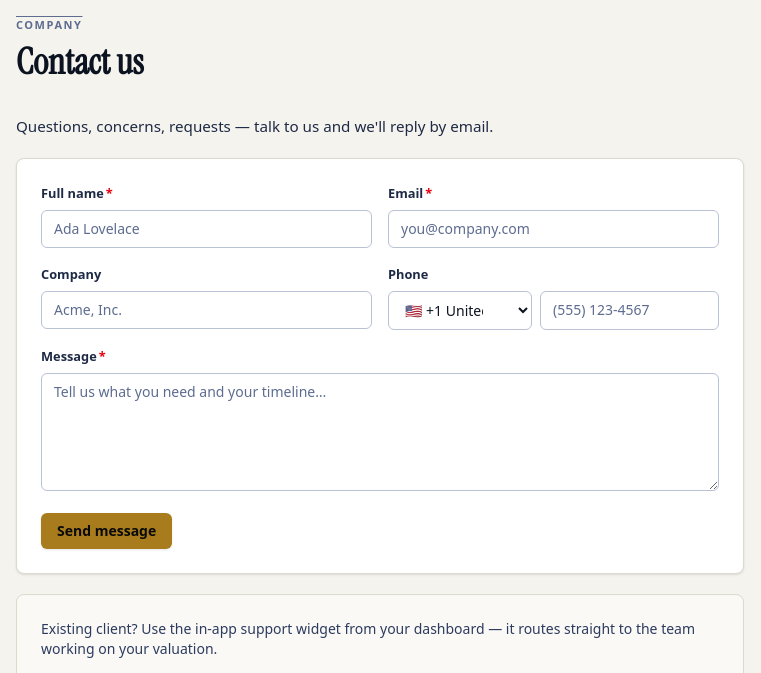
Scenario: contact form (gap #28) › surfaces a server error without clearing the form
In the field labelled "Full name": {"x": 206, "y": 229} [41,210,372,248], type "Ada"
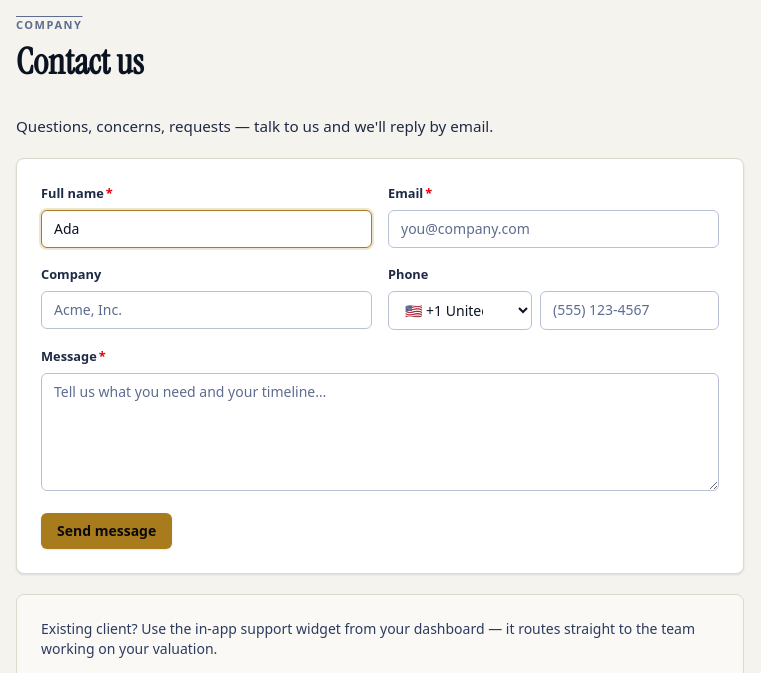
In the field labelled "Email": {"x": 554, "y": 229} [388,210,719,248], type "ada@x.example"
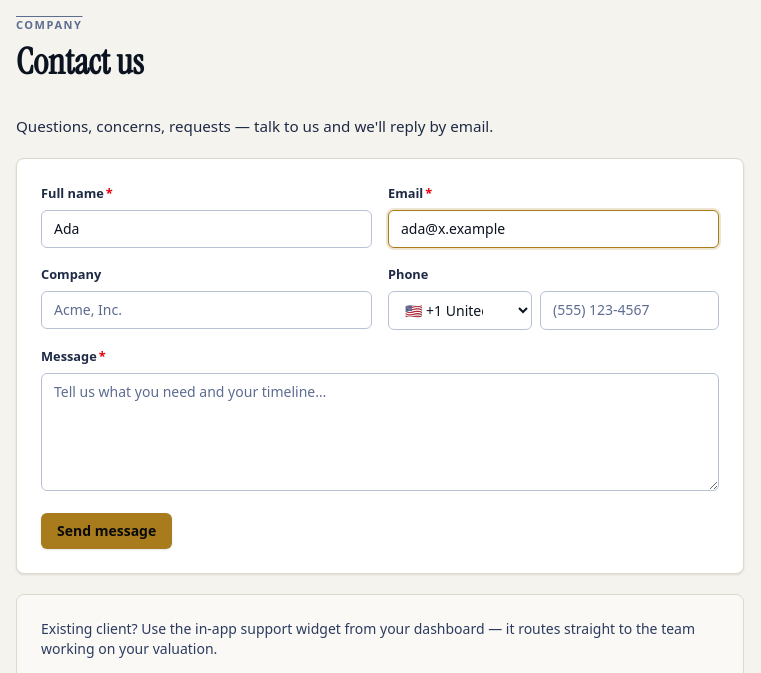
In the text box labelled "Message": {"x": 380, "y": 432} [41,372,719,490], type "Hello"
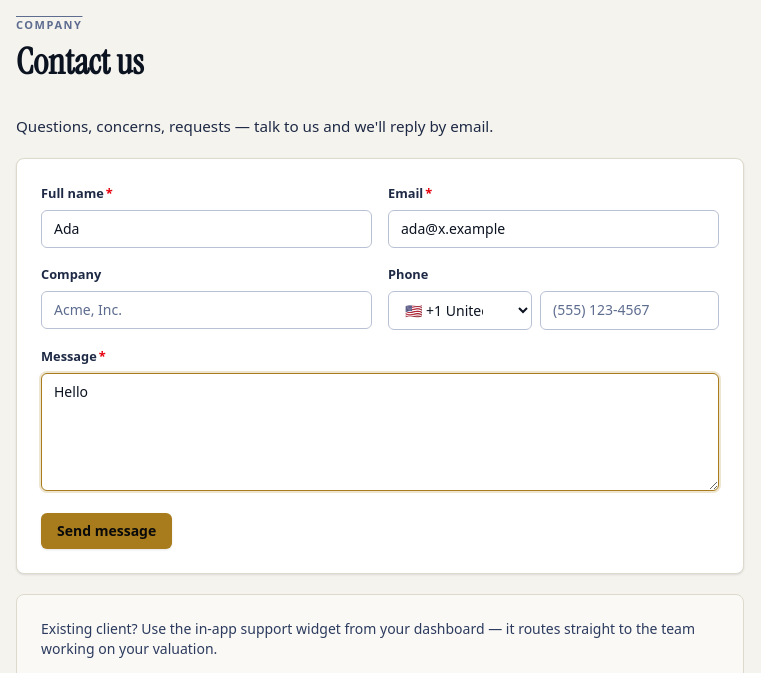
Click the button "Send message": {"x": 107, "y": 531} [41,513,172,549]
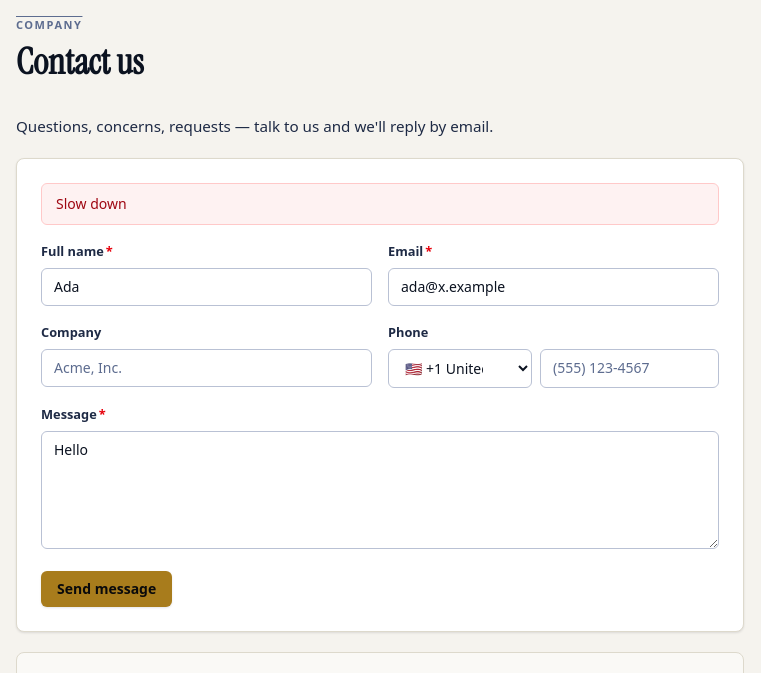
Expected: the message reads "Slow down", [56,194,127,213]
